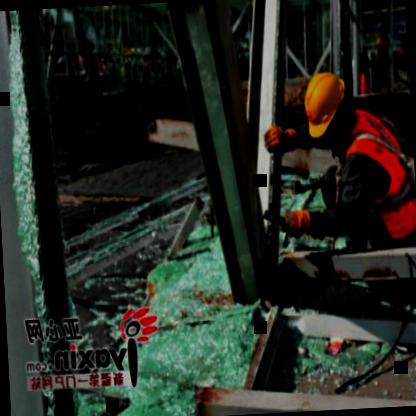helmet: (300, 64, 356, 145)
